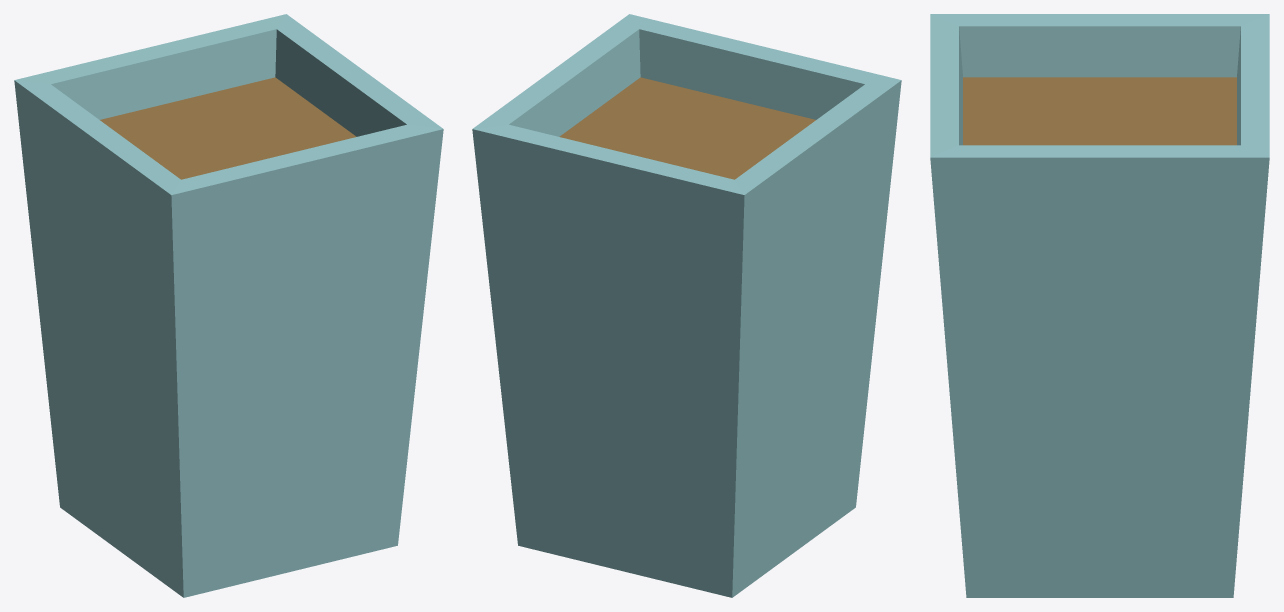
Rendered from Itr_Obj_Flowerpot1_Base_06.FBX.
The picture shows the model from 3 angles, left to right: view 1: azimuth 30°, elevation 25°; view 2: azimuth 150°, elevation 25°; view 3: azimuth 270°, elevation 25°; orthographic projection. The views are drawn at different scales.
Visible parts, largest first — view 1: Itr_Obj_Flowerpot1_Base_06; view 2: Itr_Obj_Flowerpot1_Base_06; view 3: Itr_Obj_Flowerpot1_Base_06.
Part boxes in pixels (x1,y1,x2,y2): Itr_Obj_Flowerpot1_Base_06: (14,14,443,597); Itr_Obj_Flowerpot1_Base_06: (472,14,901,597); Itr_Obj_Flowerpot1_Base_06: (930,14,1269,597).
Size of the model in its own units: 18.75 by 27.77 by 18.75.
